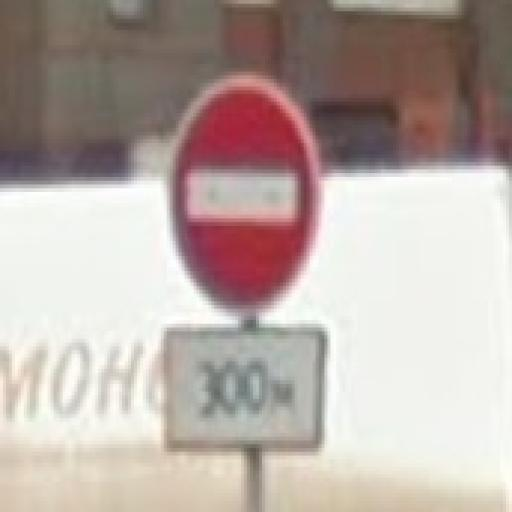traffic_sign: (168, 73, 323, 321)
